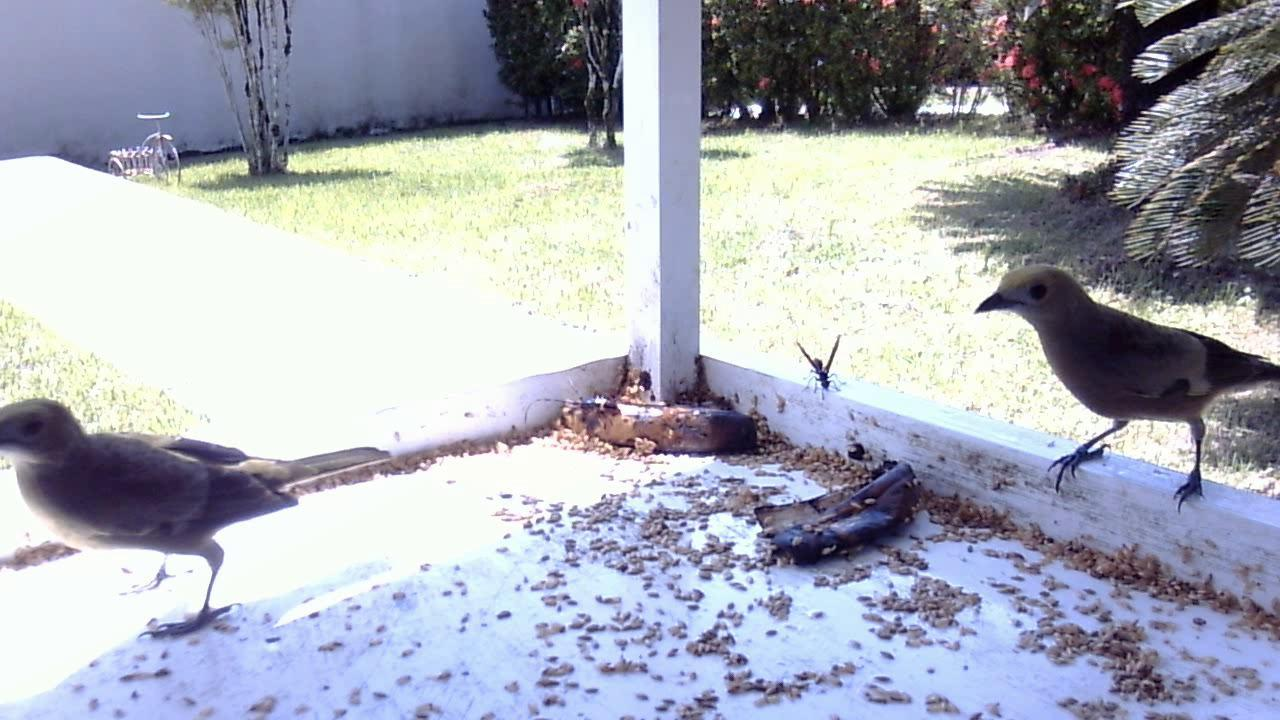sanhaco_do_coqueiro: (1, 356, 405, 655), (967, 258, 1270, 518)
